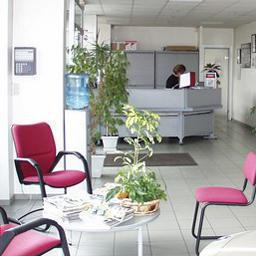Matera: (110, 105, 170, 215), (98, 46, 123, 151)
